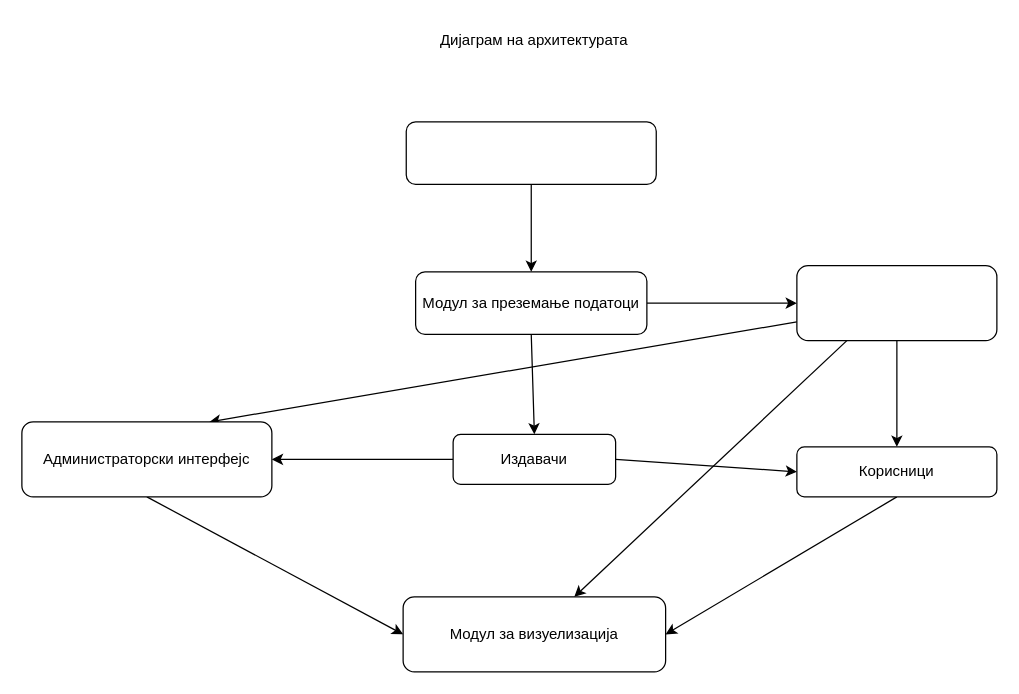
The diagram is 1019 pixels wide and 694 high, and some of its shapes have lost their labels. Here are the shapes that lost their labels. From the top down, the centre of each, then its label:
At point (530, 152): "Веб-страница на Македонската берза".
At point (896, 302): "Складиште на историски податоци".
